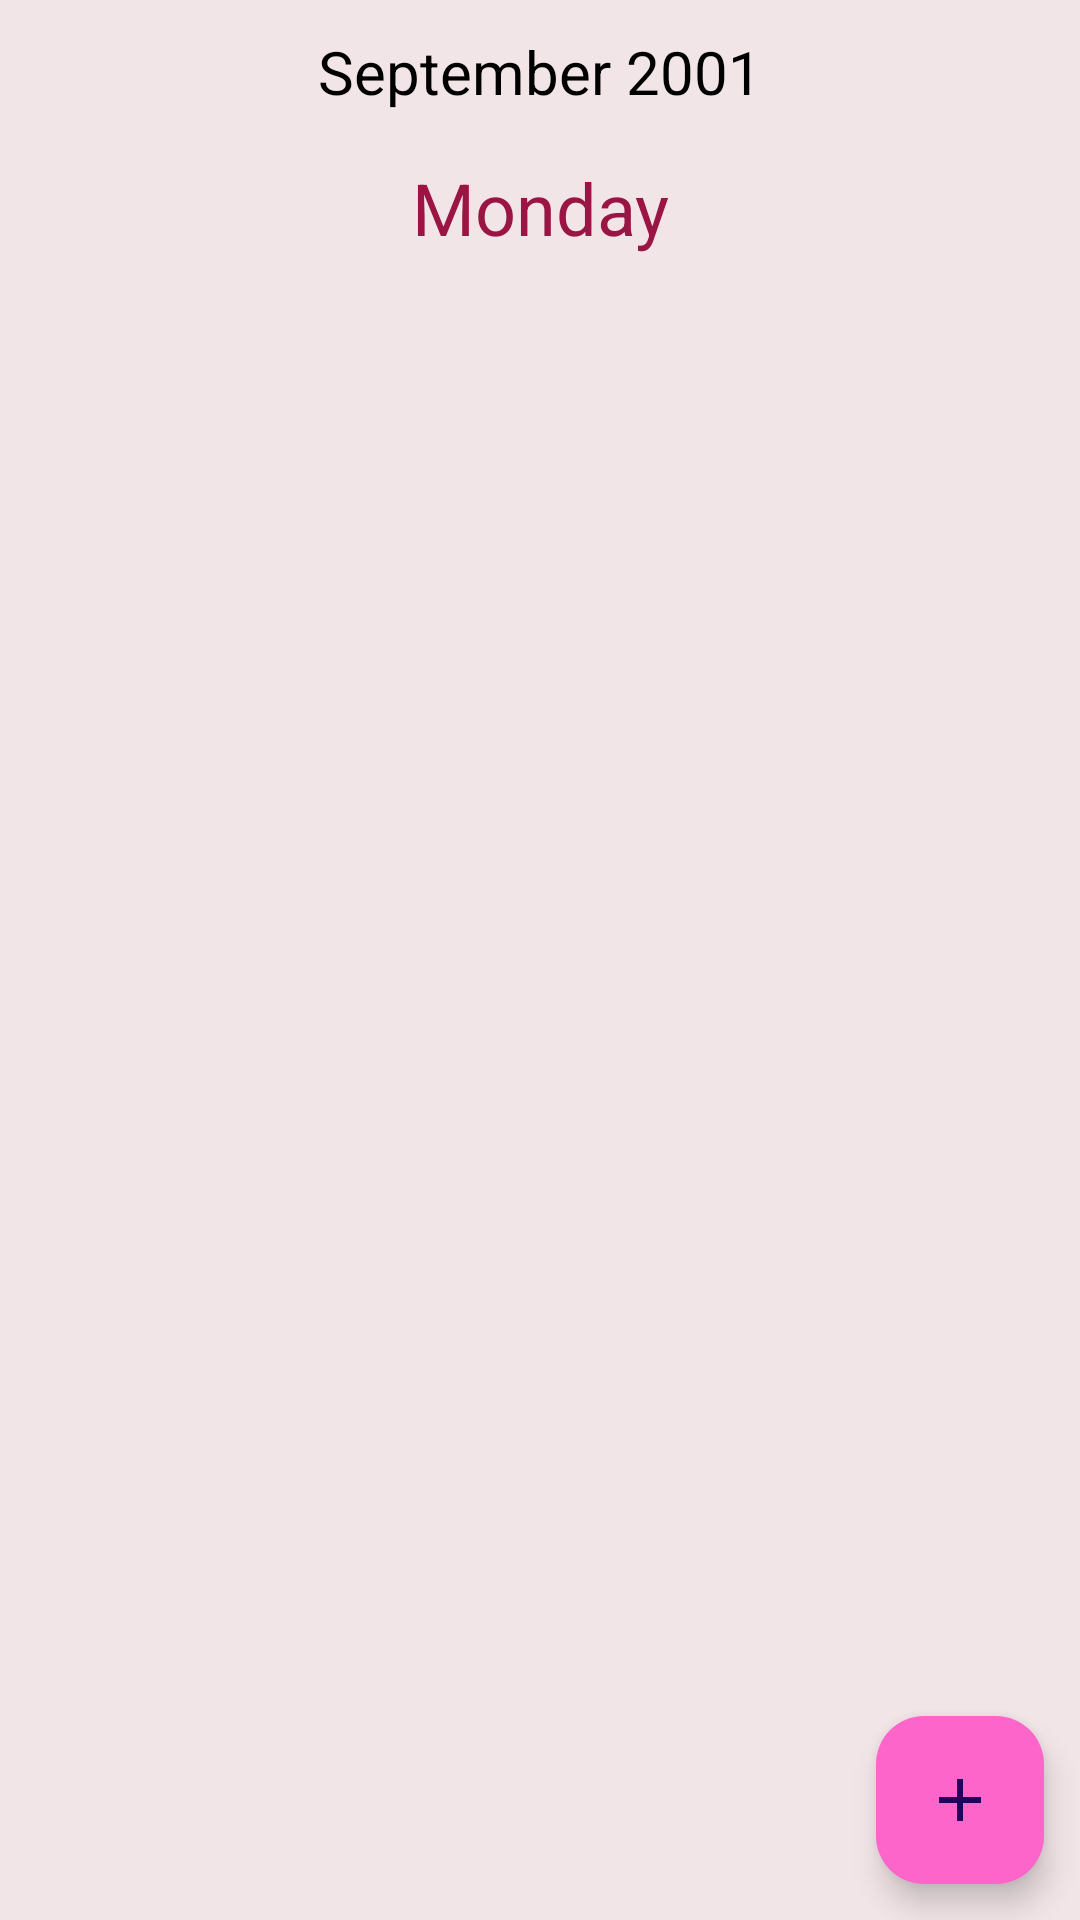

Named icons in this screenshot (1080px×1920px) and their centers, (x=x, y=y):
add: (x=960, y=1800)
